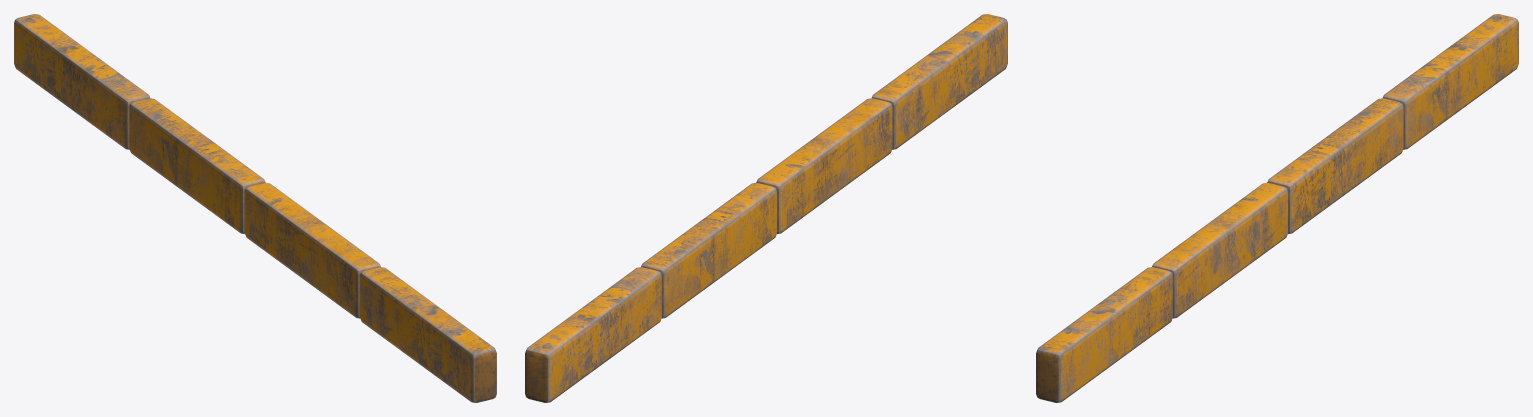
The model's file is SM_Curb.fbx.
The picture shows the model from 3 angles, left to right: view 1: azimuth 30°, elevation 25°; view 2: azimuth 150°, elevation 25°; view 3: azimuth 330°, elevation 25°; orthographic projection.
Visible parts, largest first — view 1: SM_Curb_LOD0; view 2: SM_Curb_LOD0; view 3: SM_Curb_LOD0.
Boxes of the visible parts, <box> form: SM_Curb_LOD0: <box>14,14,496,402</box>; SM_Curb_LOD0: <box>525,14,1007,402</box>; SM_Curb_LOD0: <box>1036,14,1518,402</box>.
Bounding box in the file's own units: 13.19 × 400 × 24.79.
1 material, 1 textured.
